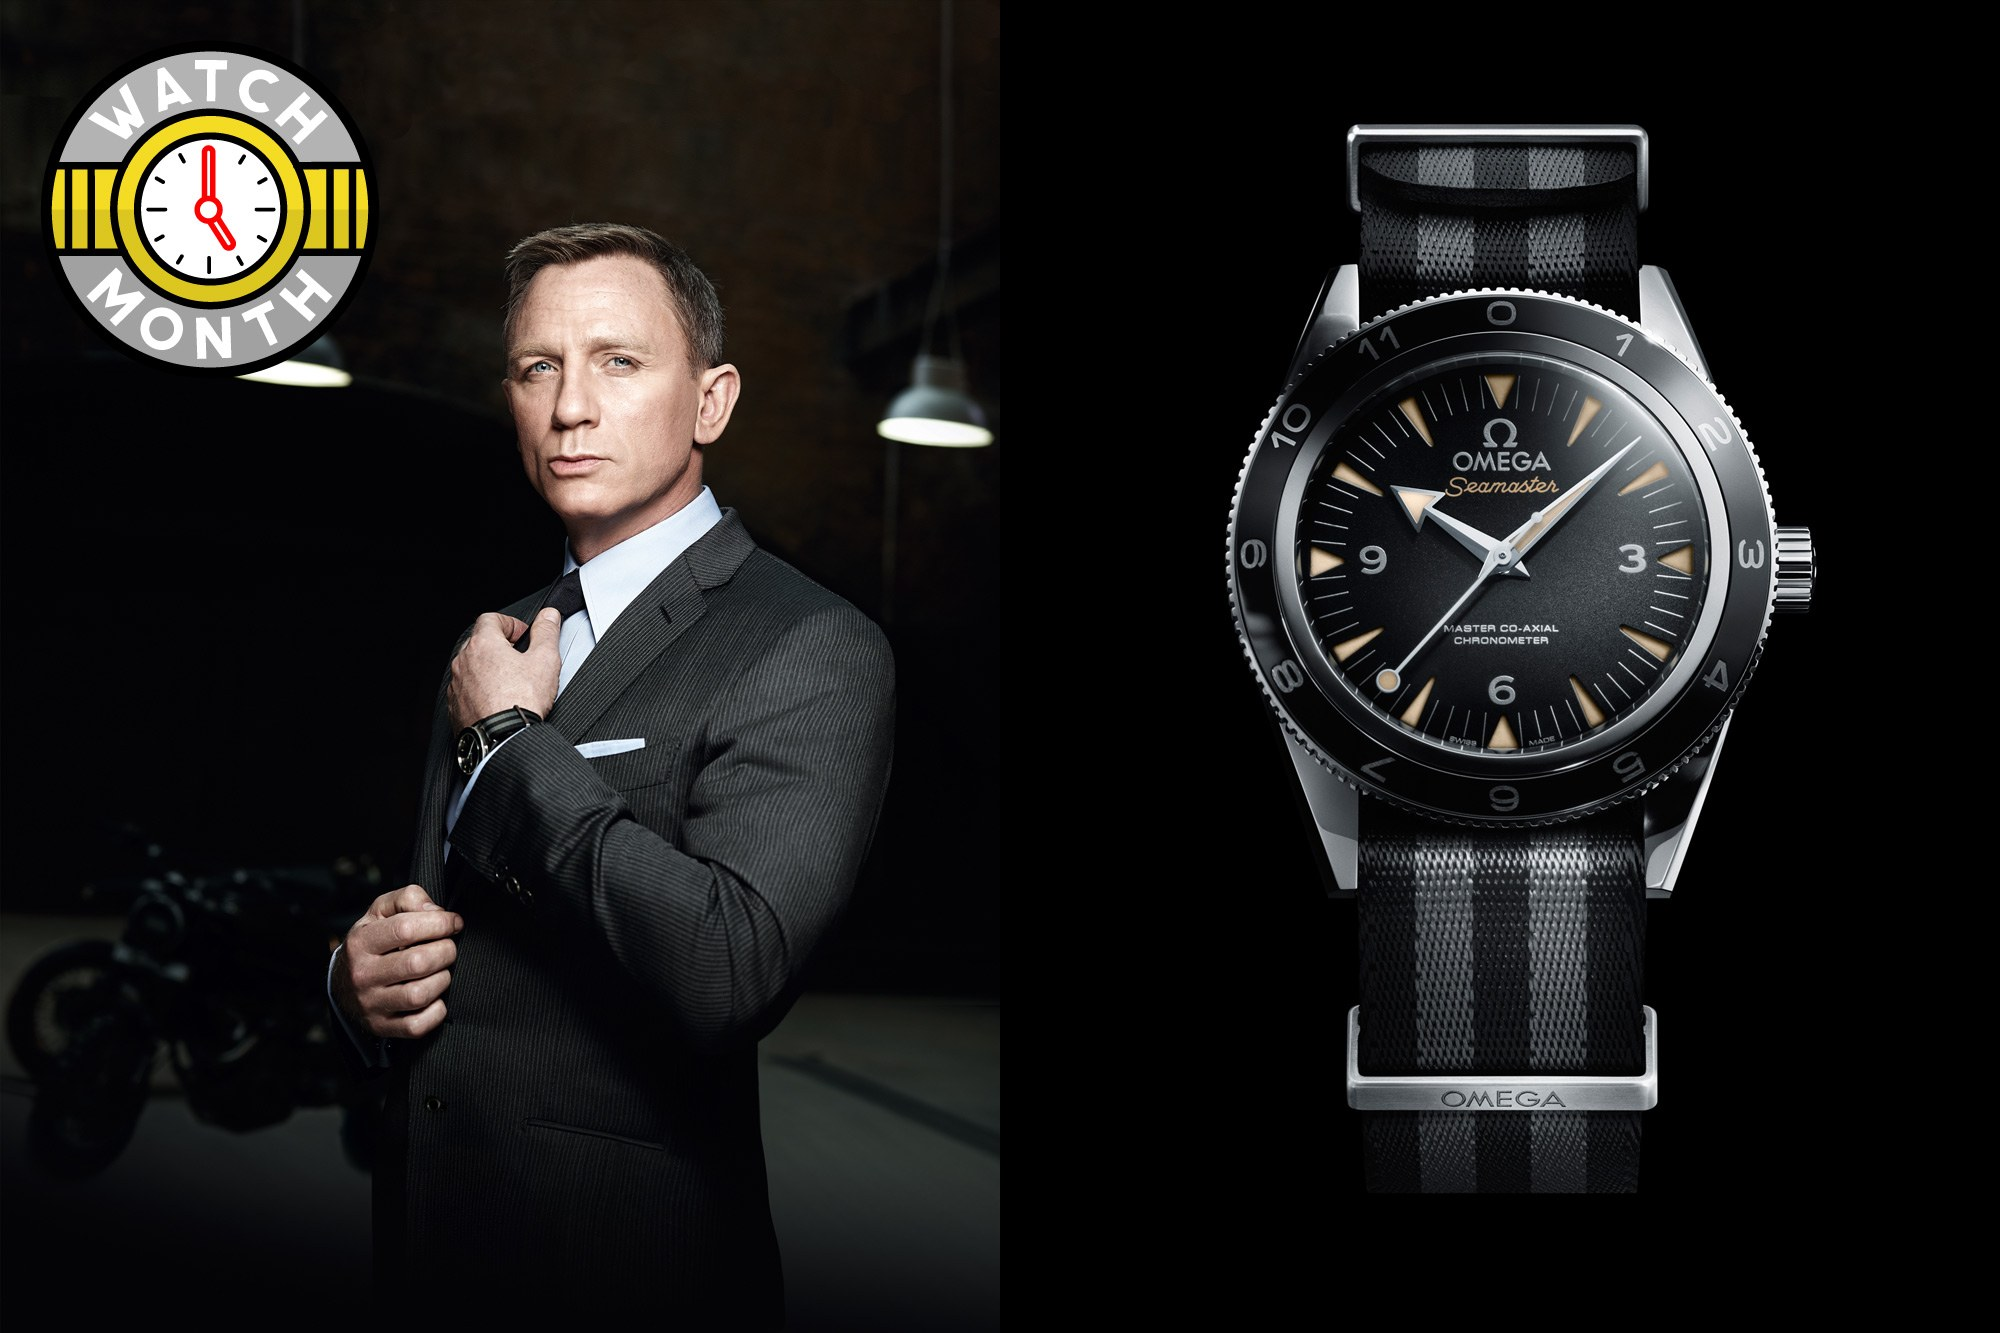clock: (1300, 356, 1714, 765)
